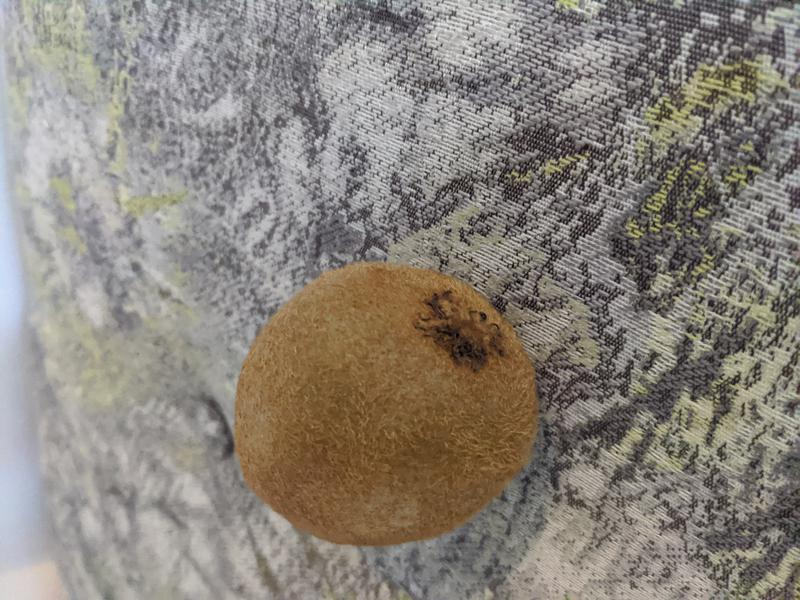kiwi: (232, 261, 540, 546)
